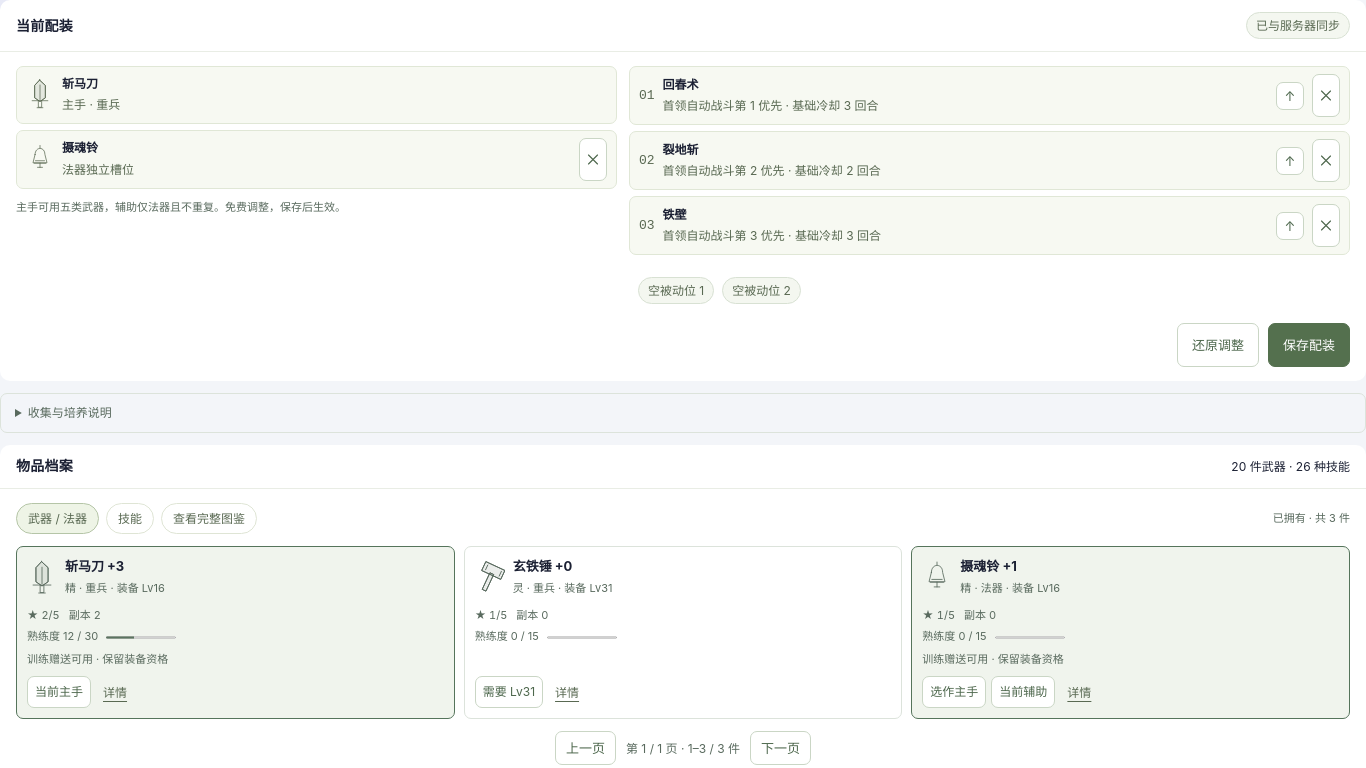
Scenario: Demon tower free innate UI › distinguishes gifted equipment from new locked drops, displays stars separately from +N and never hides the inventory
Check: the text "灵 · 重兵 · 装备 Lv31" is shown, box [513, 581, 612, 595]
Check: the button "需要 Lv31" is disabled, box [475, 676, 543, 708]
Click the button "详情" below "玄铁锤" at (567, 692), box [548, 676, 586, 708]
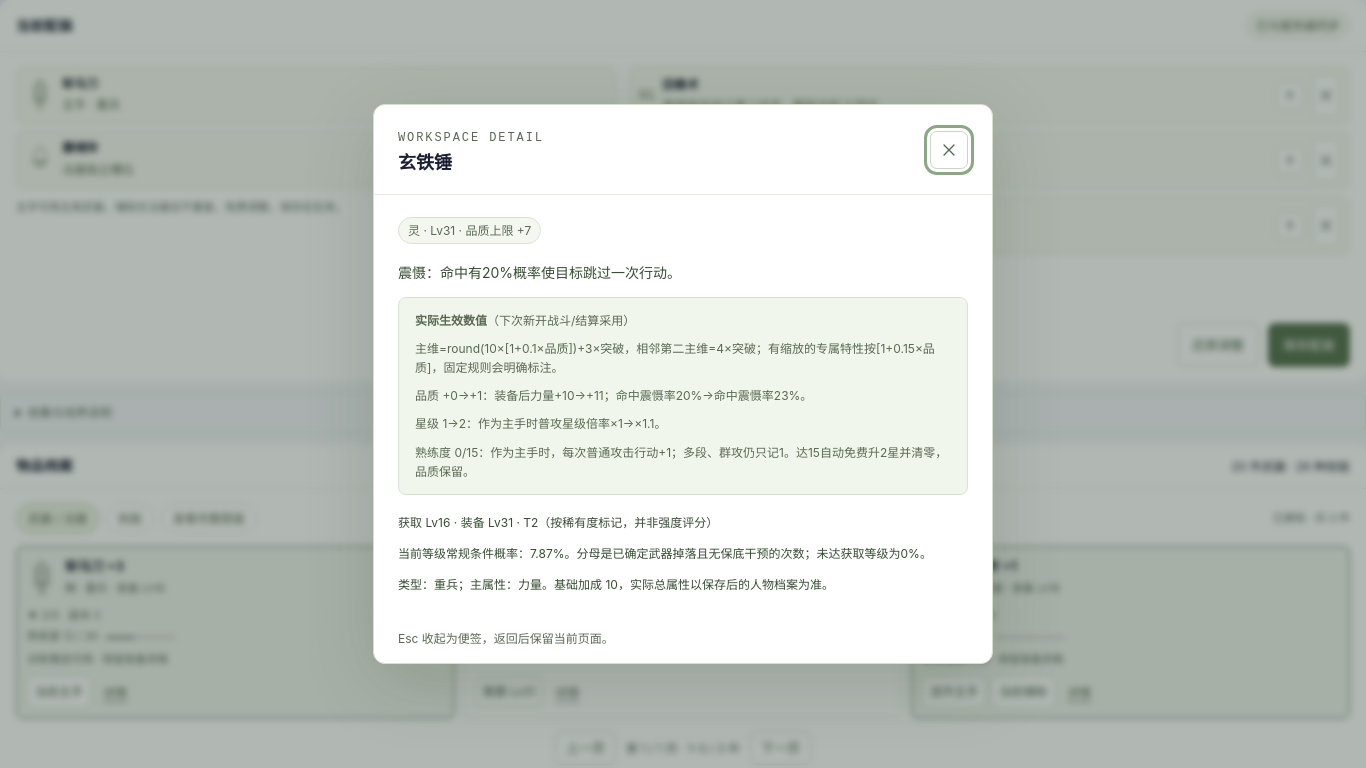
Check: the text "获取 Lv16 · 装备 Lv31 · T2（按稀有度标记，并非强度评分）" is shown, box [398, 515, 718, 530]
